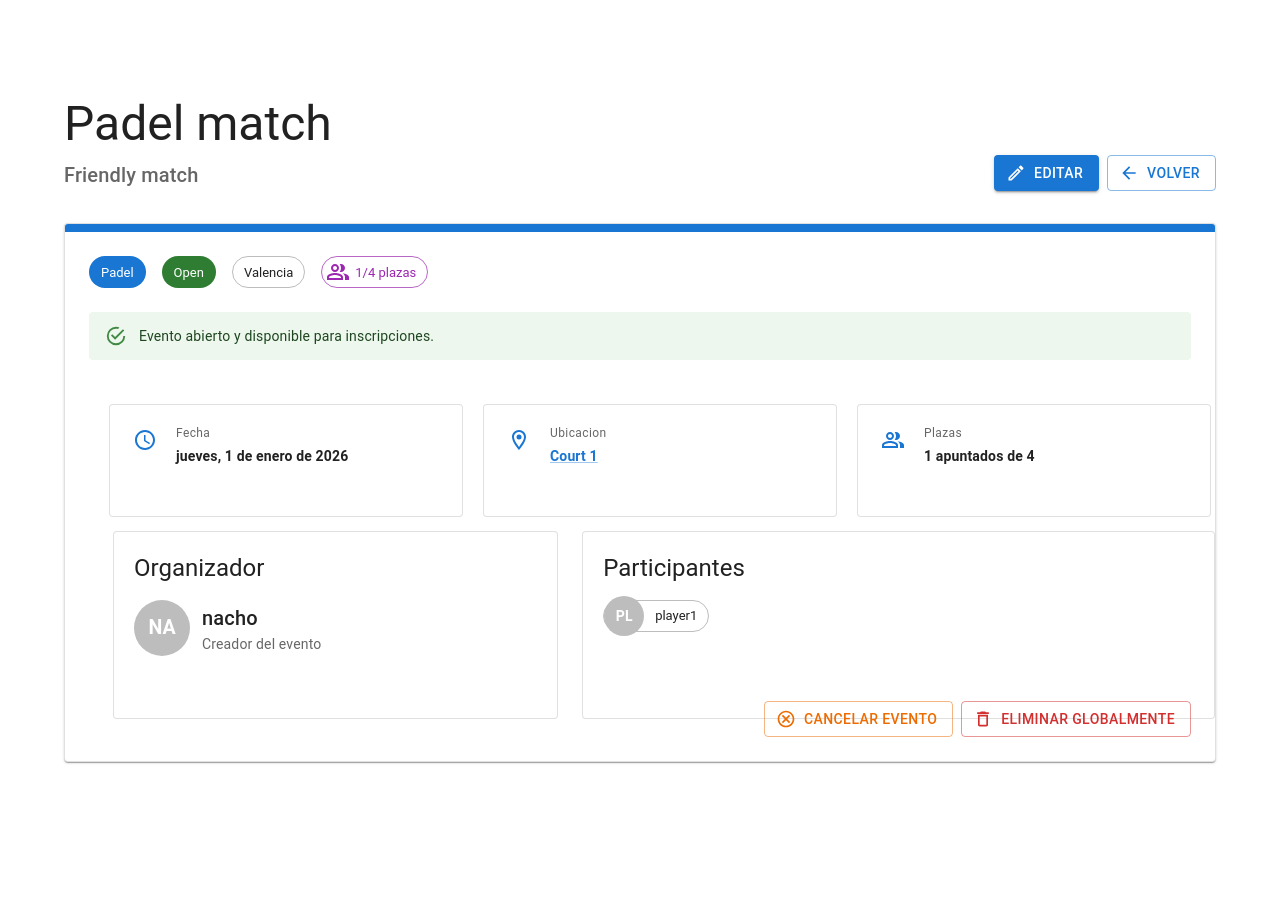
Test case: CardDetails › shows cancellation errors after confirmation
Click the button "Cancelar evento" at coordinates (859, 719), box [764,701,953,738]
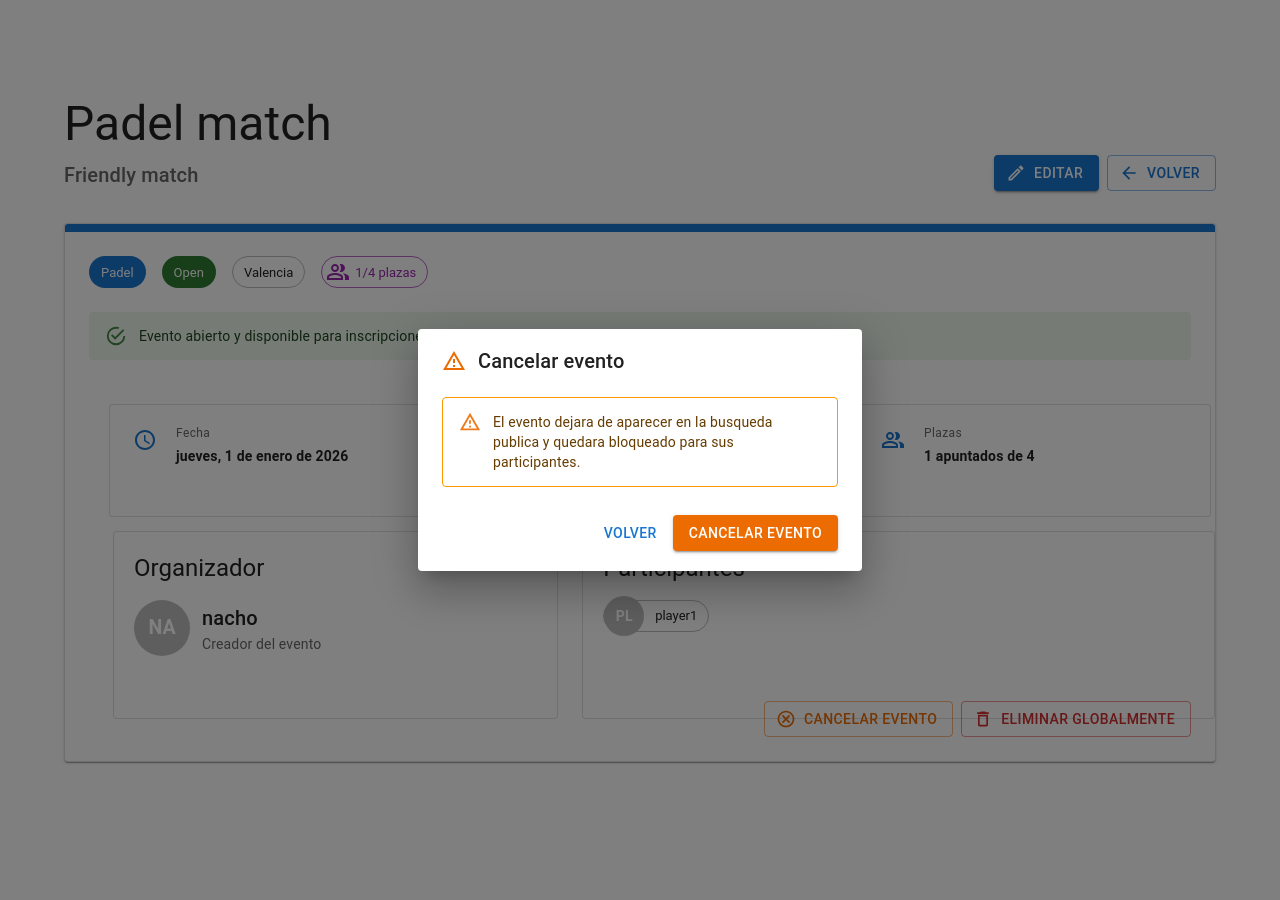
Click the button "Cancelar evento" at coordinates (755, 533), box [673,515,838,551]
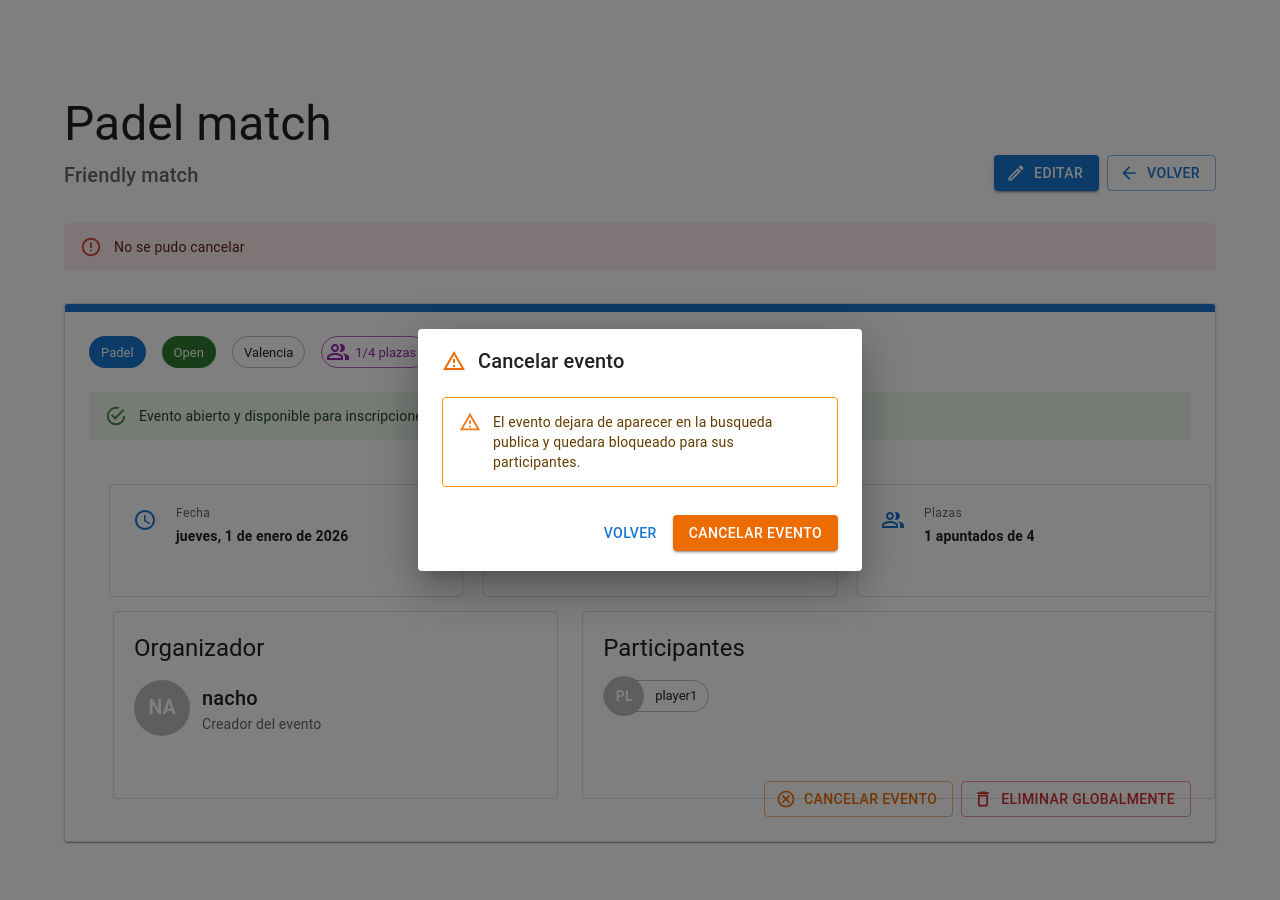
expect the text "No se pudo cancelar" is shown: met, box [114,239,244,255]
